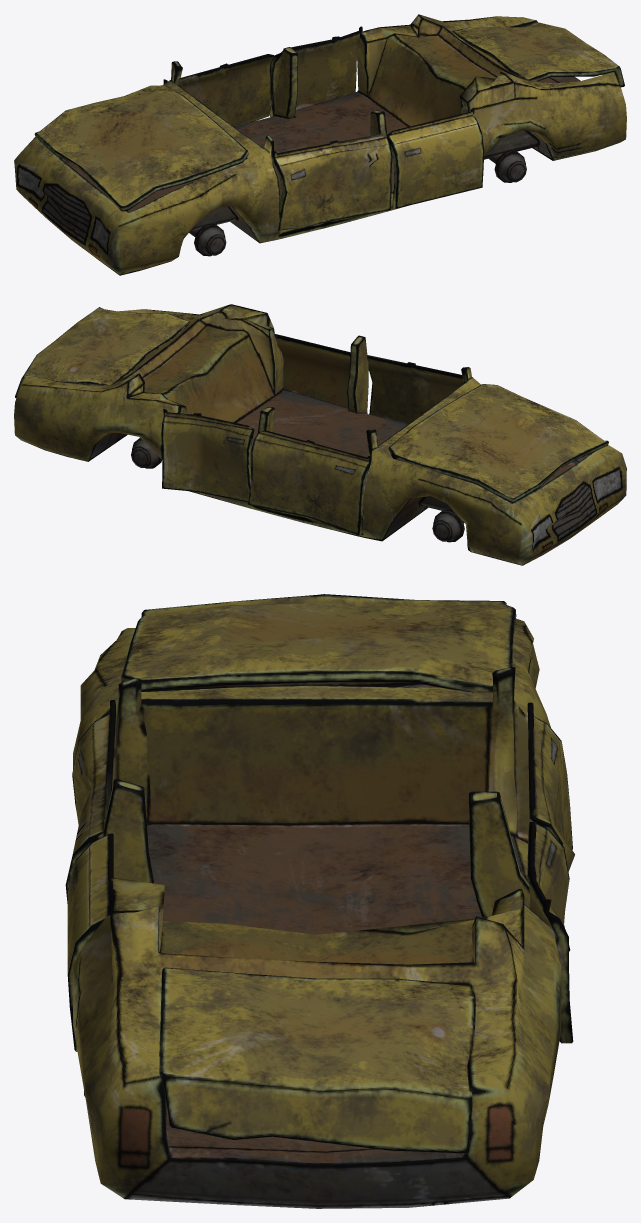
Rendered from junk_car_v5.fbx.
The picture shows the model from 3 angles, top to bottom: view 1: azimuth 30°, elevation 25°; view 2: azimuth 150°, elevation 25°; view 3: azimuth 270°, elevation 25°; orthographic projection. The views are drawn at different scales.
Parts seen in each view (by area): view 1: junk_car_v5; view 2: junk_car_v5; view 3: junk_car_v5.
Boxes of the visible parts, bbox=[...] form: junk_car_v5: bbox=[14, 14, 626, 275]; junk_car_v5: bbox=[14, 304, 626, 565]; junk_car_v5: bbox=[65, 594, 574, 1208].
Size of the model in its own units: 26.53 by 5.12 by 11.02.
1 material, 1 textured.
